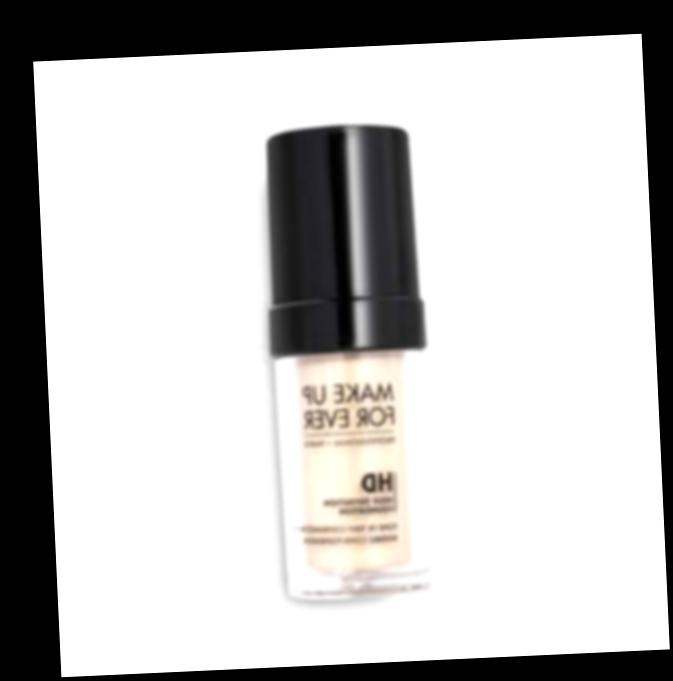cosmetic: (256, 121, 443, 602)
